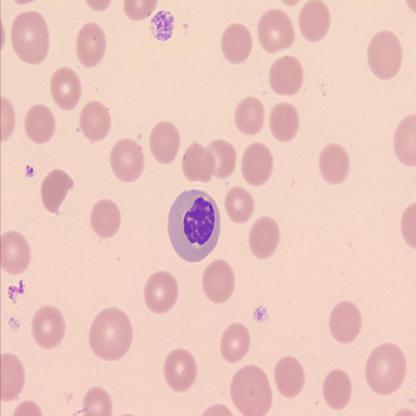NRC: (166, 188, 222, 263)
